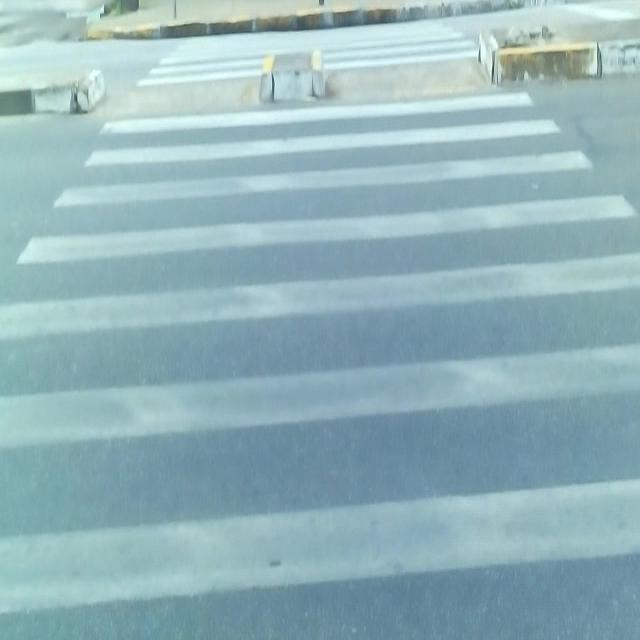crosswalk: (0, 17, 640, 640)
